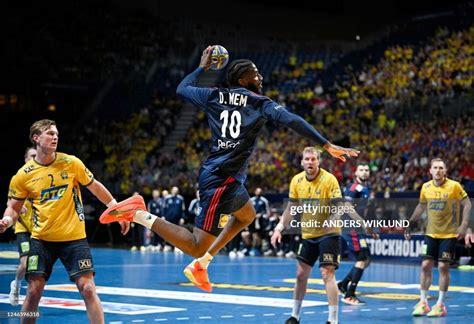ballon_handball: (202, 44, 229, 71)
